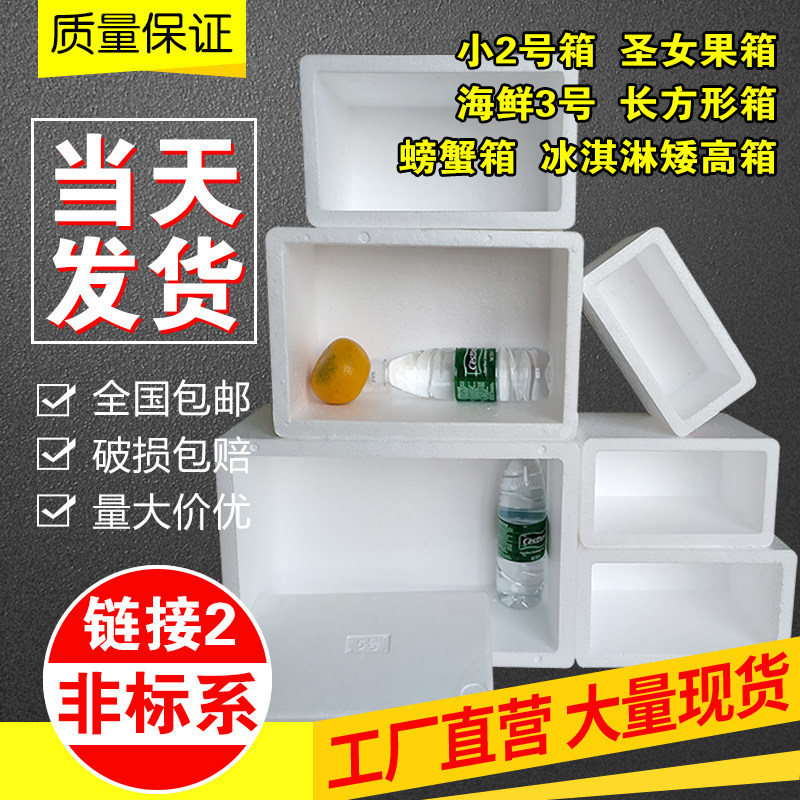Boxes: (217, 56, 795, 718)
